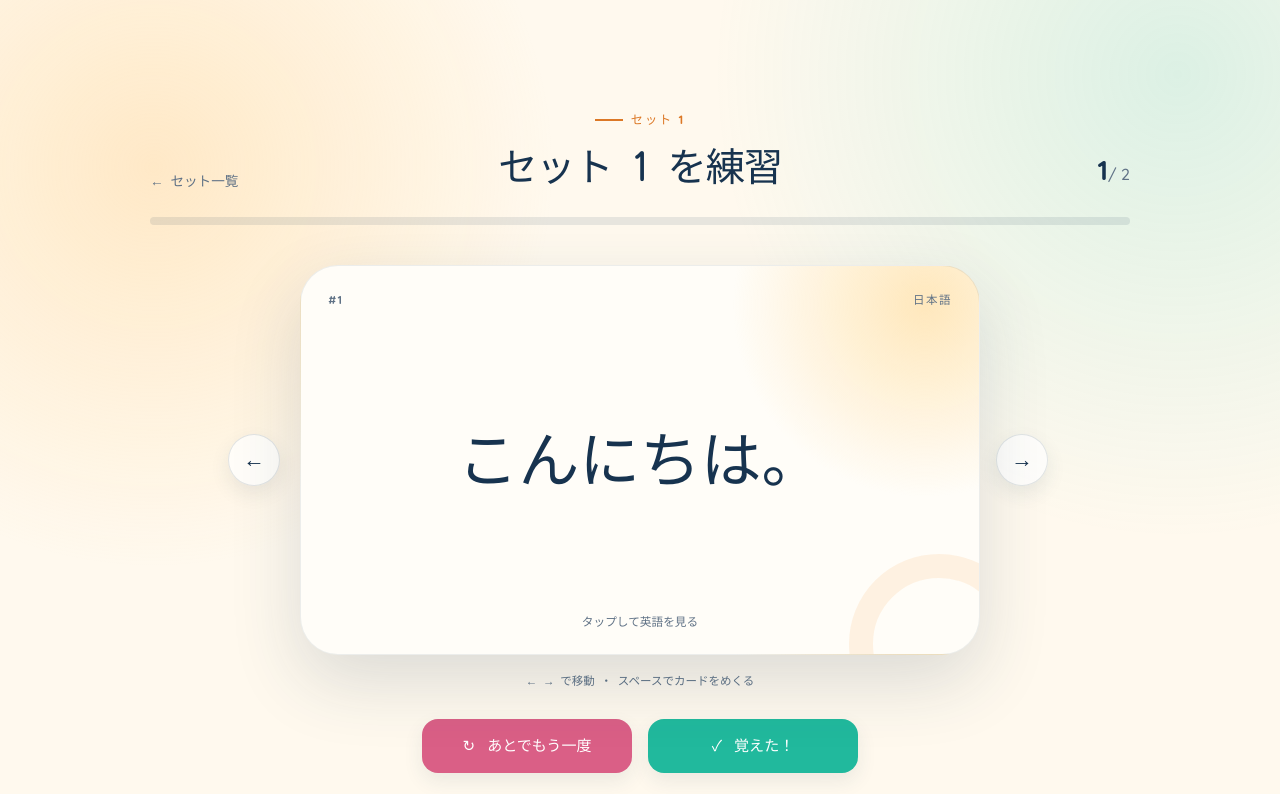
Test: StudyPage › flips cards and moves a difficult card into review
Step 1. Click the button with aria-label "カード 1。英語を見る" → (640,460), box [300,265,980,655]
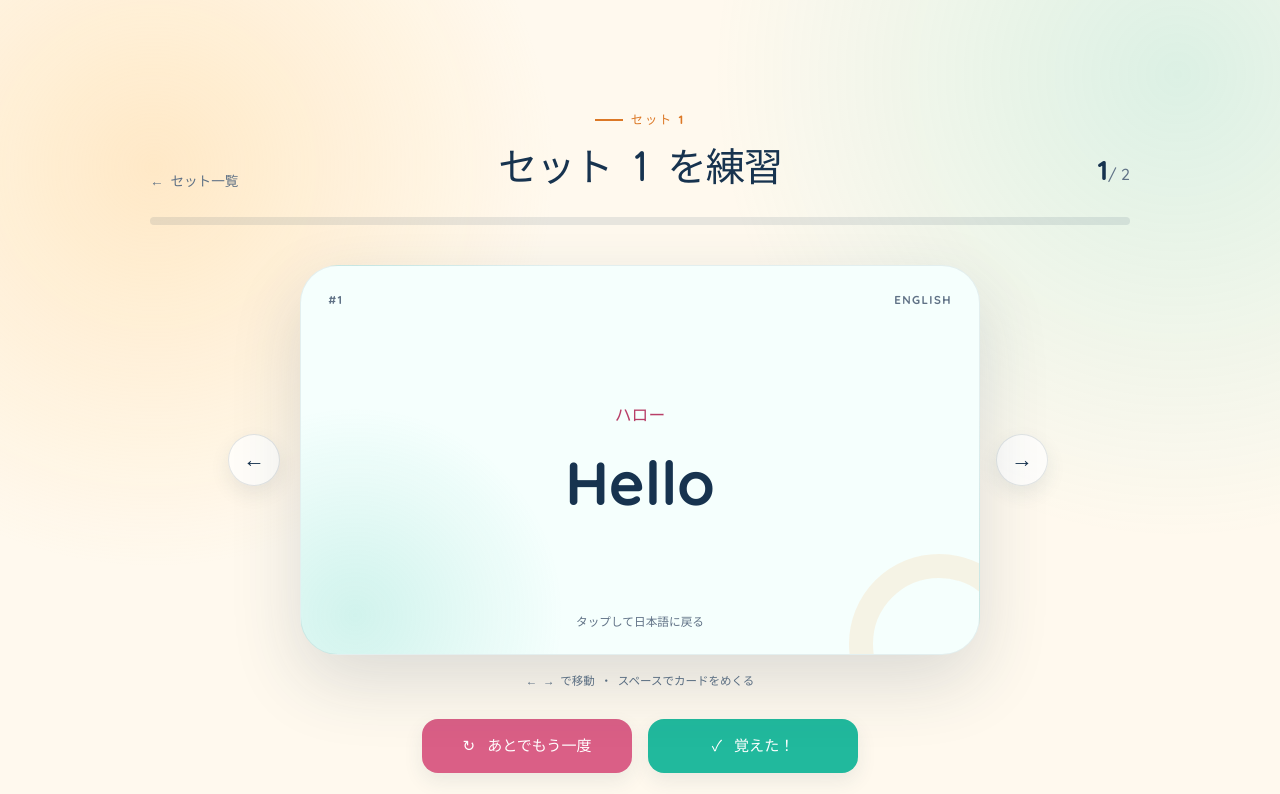
Check: the button named "カード 1。英語を見る" is pressed, box [300,265,980,655]
Step 2. Click the button "↻ あとでもう一度" → (527,746), box [422,719,632,773]
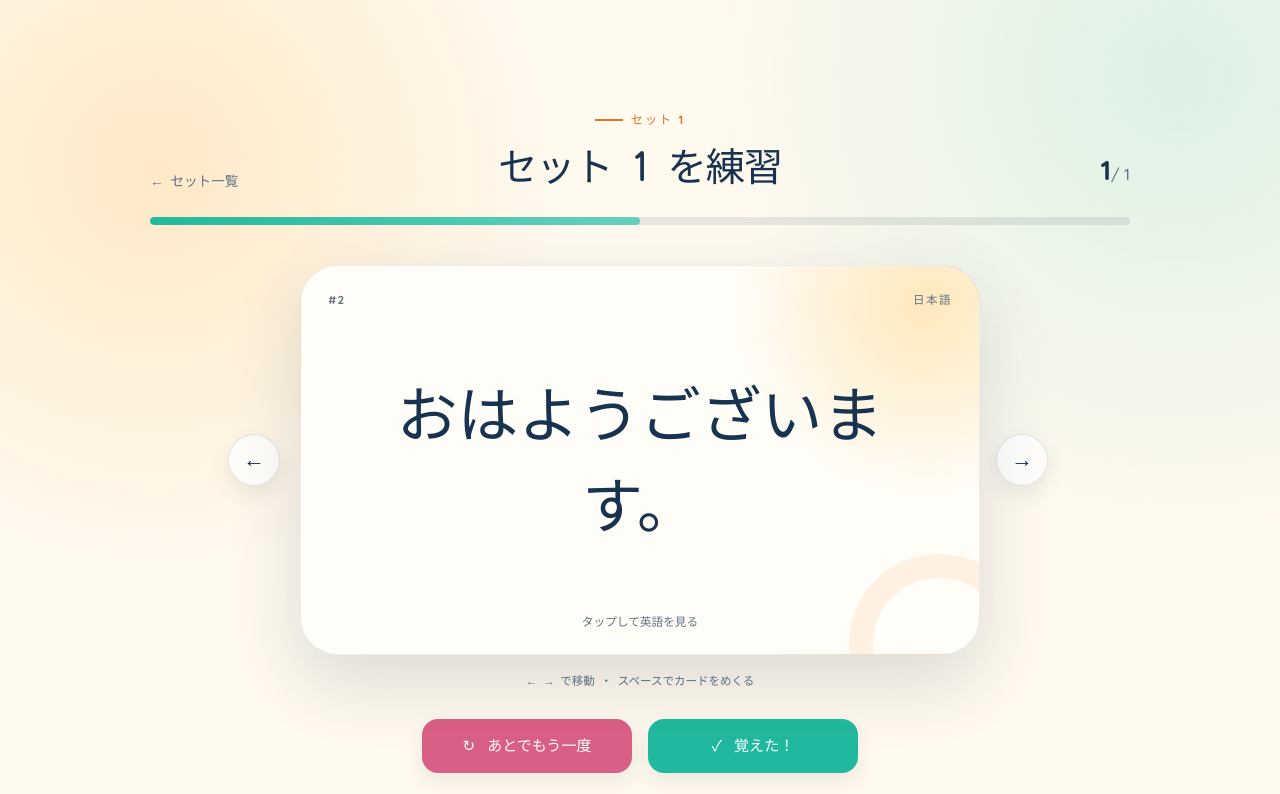
Check: the button with aria-label "カード 2。英語を見る" is shown, box [300,265,980,655]
